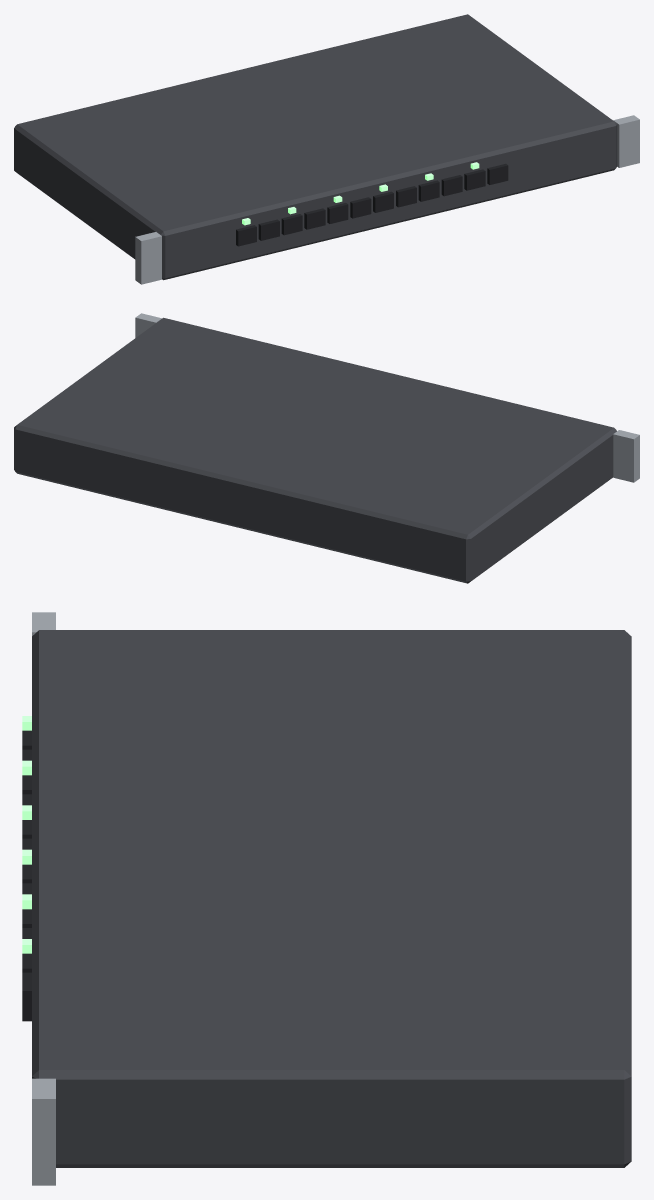
The model's file is network_switch.glb.
3 renders of one model, top to bottom at view 1: azimuth 30°, elevation 25°; view 2: azimuth 150°, elevation 25°; view 3: azimuth 270°, elevation 25°, orthographic. The views are drawn at different scales.
Parts seen in each view (by area): view 1: network_switch; view 2: network_switch; view 3: network_switch, network_switch_leds.
Boxes of the visible parts, <box> form: network_switch: <box>14,14,639,284</box>; network_switch: <box>14,313,639,583</box>; network_switch: <box>22,612,631,1185</box>; network_switch_leds: <box>22,716,31,953</box>.
Size of the model in its own units: 0.48 by 0.045 by 0.254.
Materials: 2 (1 with a texture image).
